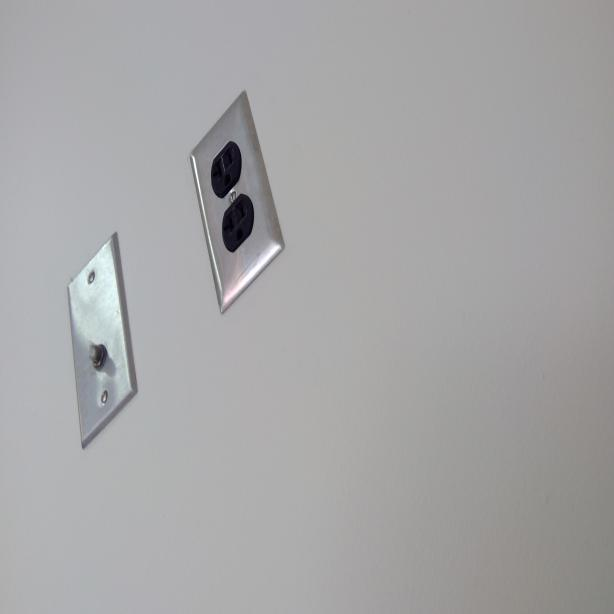typeb: (221, 197, 257, 242), (213, 140, 242, 192)
